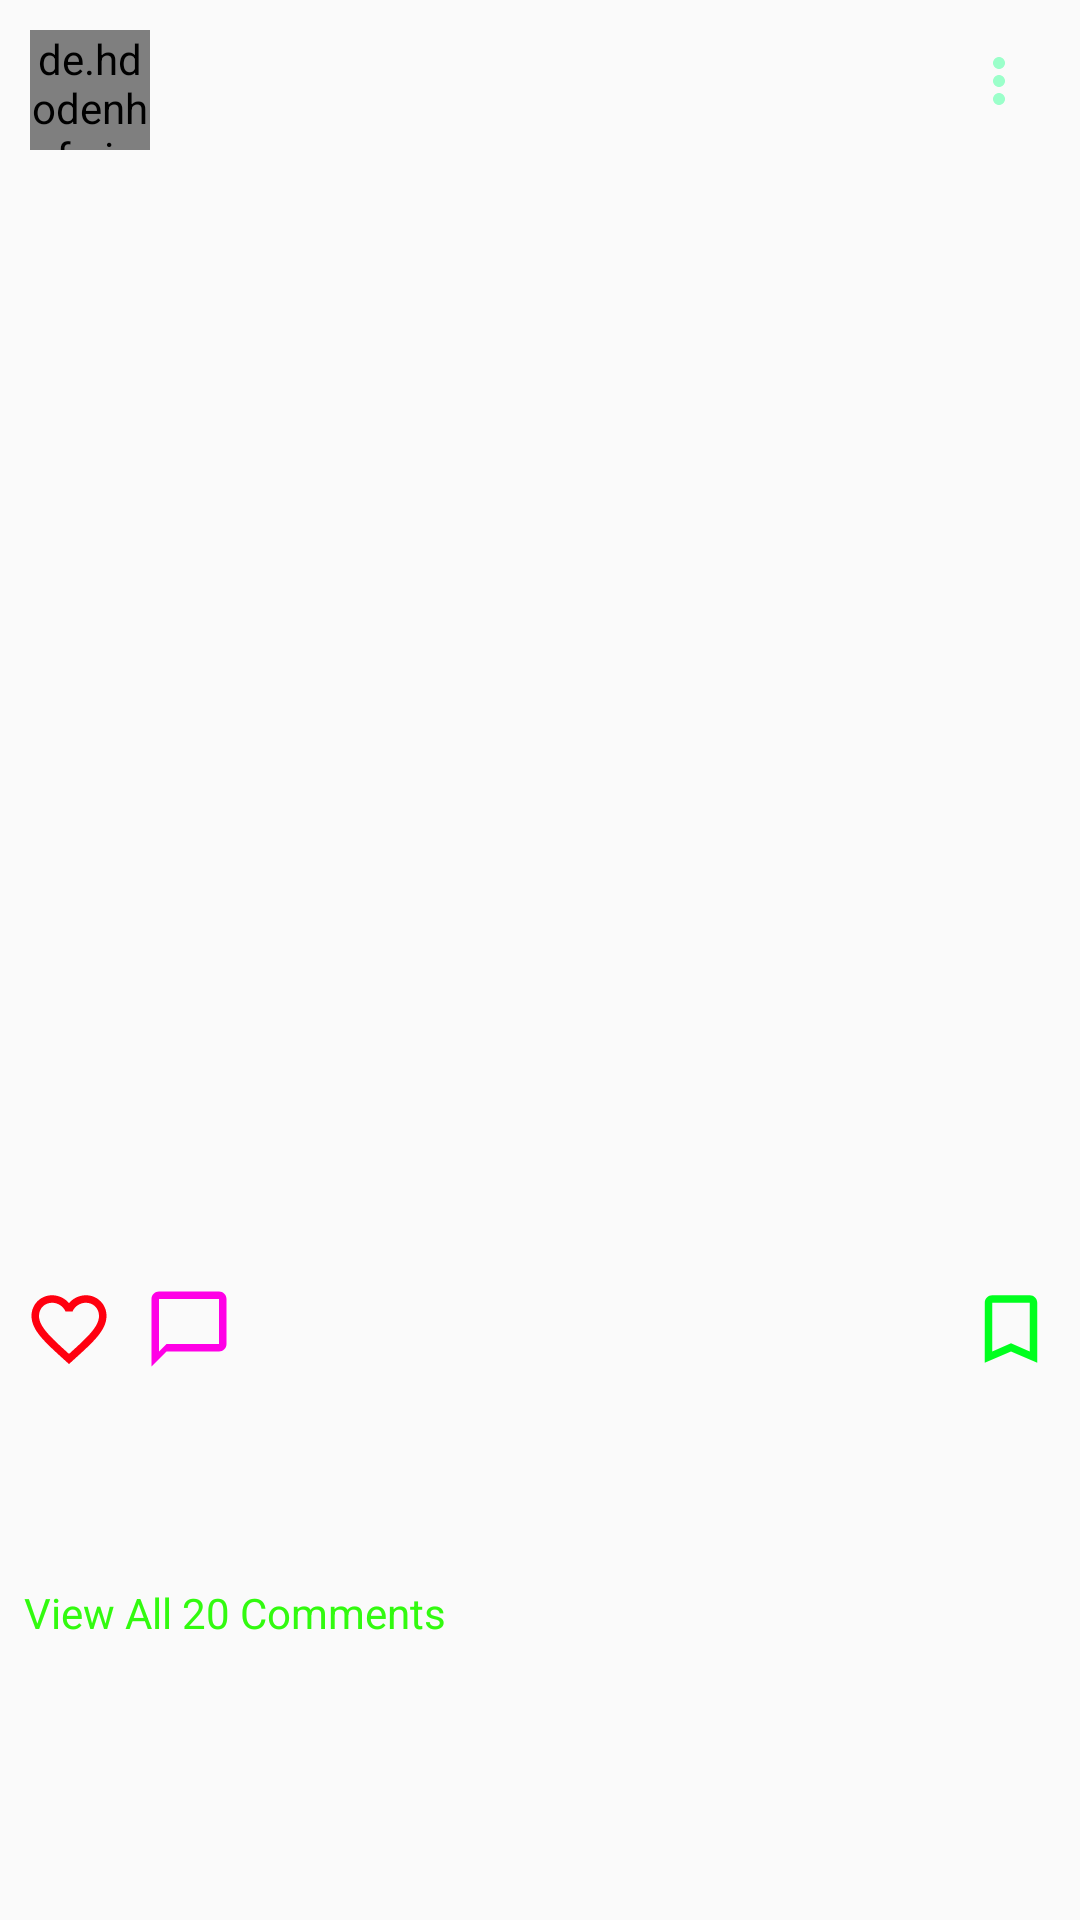

Icon bounding boxes for this 1080x1920 phone screenshot, format (x1, y1, x2, y2):
comment: (151, 1291, 227, 1367)
like: (31, 1295, 107, 1364)
more: (993, 57, 1005, 105)
savee: (984, 1295, 1038, 1363)
